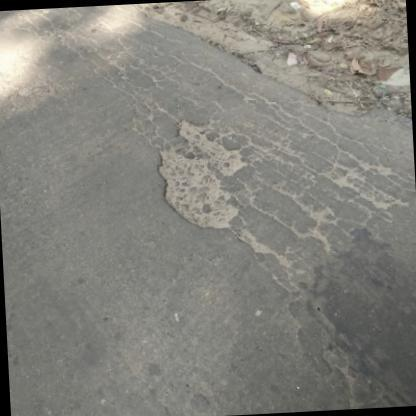pothole: (156, 116, 244, 231)
